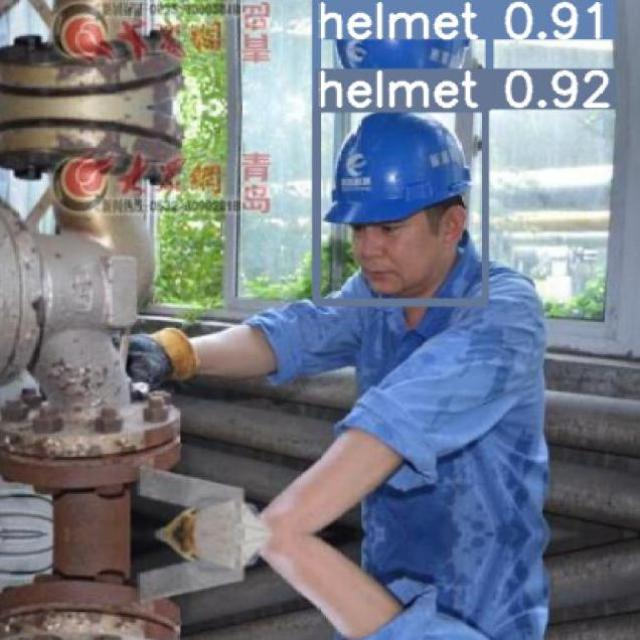blue helmet: (327, 112, 481, 238), (333, 4, 487, 87)
